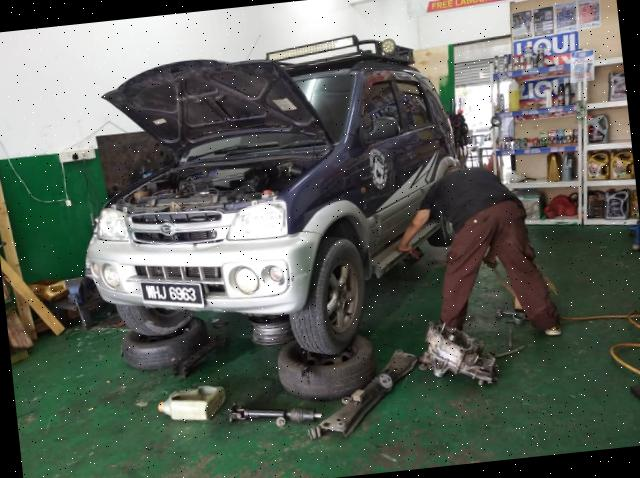License_Plate: (141, 277, 205, 315)
car: (64, 27, 484, 380)
